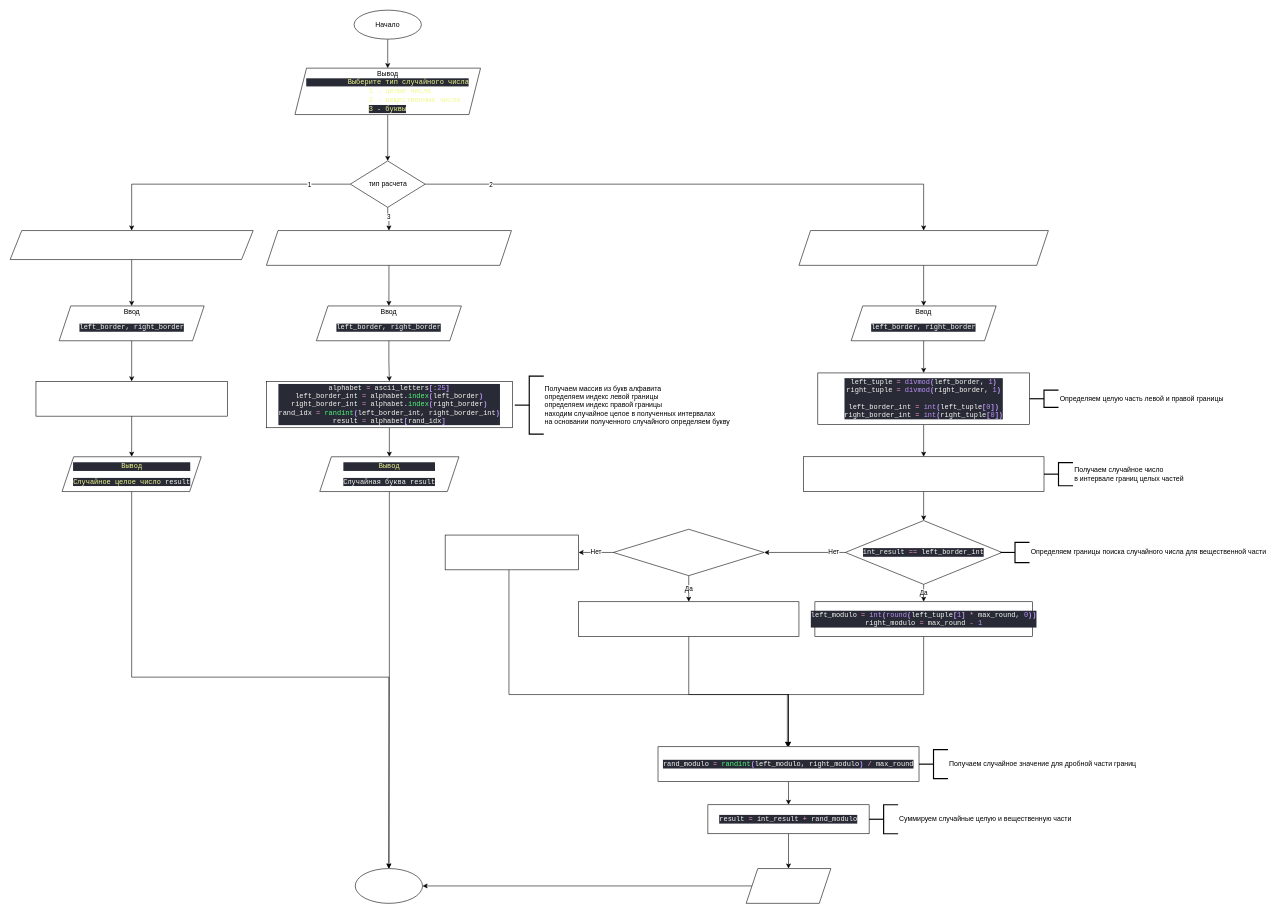
This 1276x914 diagram has some shape labels left out. Each missing label, with the centre of its shape:
"int_result = randint ( left_border_int, right_border_int )" belongs at point 923,474.
"int_result == right_border_int" belongs at point 688,552.
"left_modulo = 0 right_modulo = int ( round ( left_tuple [ 1 ] * max_round, 0 ))" belongs at point 688,619.
"left_modulo = 0 right_modulo = max_round" belongs at point 512,552.
"result = randint ( left_border, right_border )" belongs at point 131,398.
"Вывод Введите границы для поиска буквы алфавита" belongs at point 388,247.
"Вывод Введите границы для поиска случайного вещественного числа" belongs at point 923,247.
"Вывод Введите границы для поиска случайного целого числа" belongs at point 131,245.
"Вывод Случайная буква" belongs at point 788,885.
"Конецу" belongs at point 389,885.
